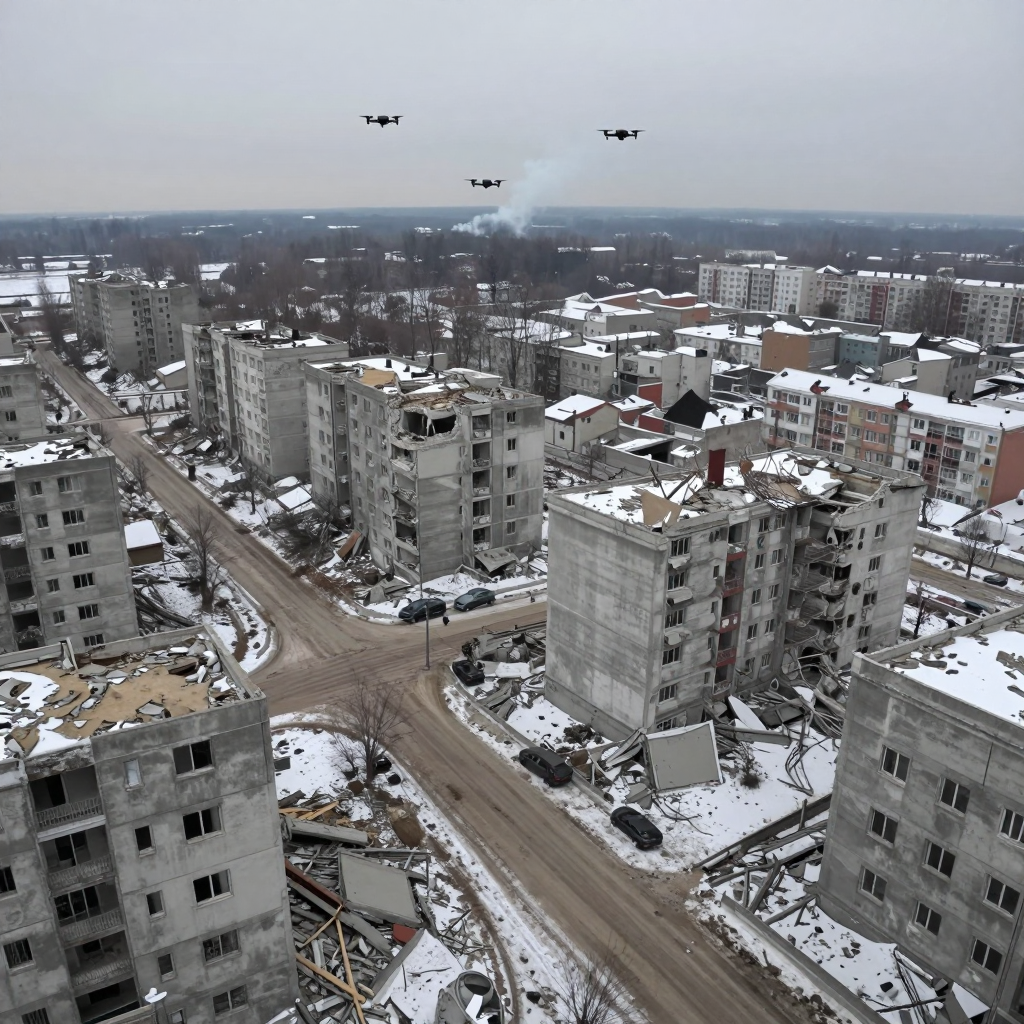drone: (597, 129, 645, 141), (360, 115, 403, 128), (464, 179, 507, 189)
